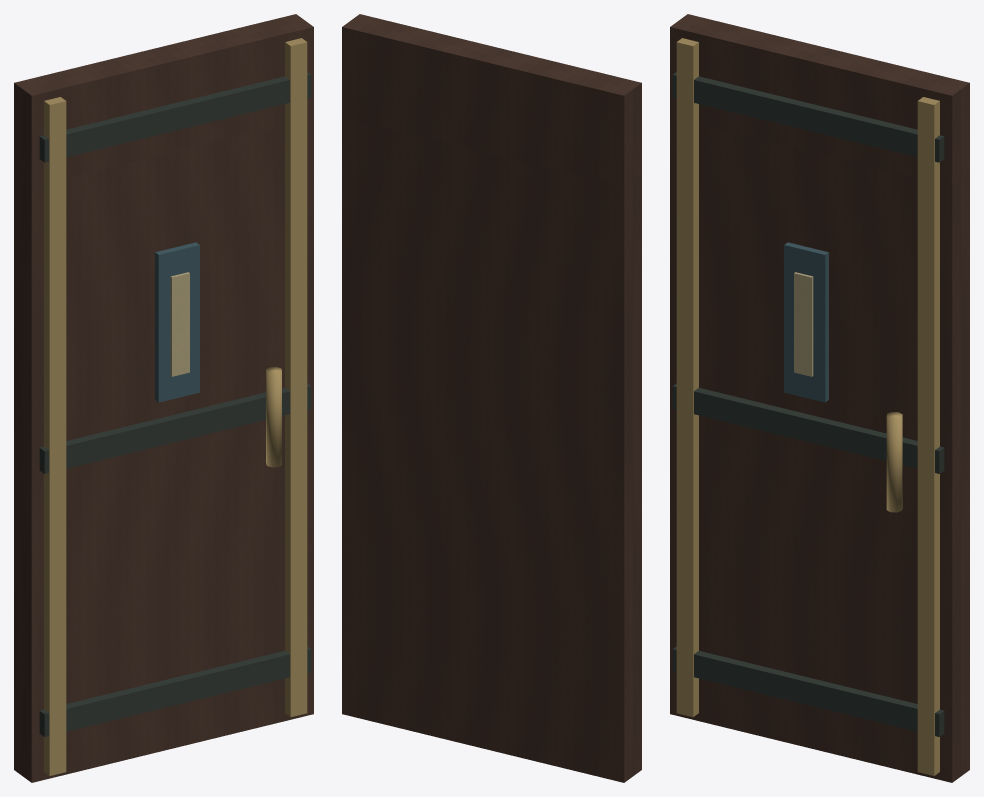
The model's file is archive_gate_left.glb.
3 views of the same model, side by side, from view 1: azimuth 30°, elevation 25°; view 2: azimuth 150°, elevation 25°; view 3: azimuth 330°, elevation 25° (orthographic).
Visible parts, largest first — view 1: Scripture_Timber, Scripture_Bronze, Scripture_Iron, Scripture_Indigo, Scripture_Paper; view 2: Scripture_Timber; view 3: Scripture_Timber, Scripture_Bronze, Scripture_Iron, Scripture_Indigo, Scripture_Paper.
Boxes of the visible parts, x1,y1,x2,y2 form: Scripture_Timber: (14, 14, 313, 782); Scripture_Bronze: (44, 38, 307, 775); Scripture_Iron: (39, 72, 311, 736); Scripture_Indigo: (155, 242, 199, 402); Scripture_Paper: (170, 272, 189, 376); Scripture_Timber: (342, 14, 641, 782); Scripture_Timber: (670, 14, 969, 782); Scripture_Bronze: (676, 38, 939, 775); Scripture_Iron: (672, 72, 944, 736); Scripture_Indigo: (784, 242, 828, 402); Scripture_Paper: (794, 272, 813, 376).
Size of the model in its own units: 1.1 by 2.56 by 0.208.
5 materials, 2 textured.
